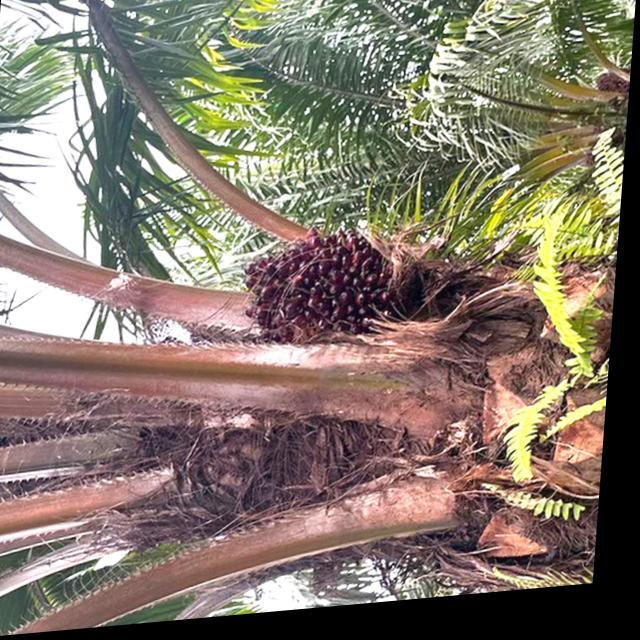ripe: (231, 235, 414, 364)
